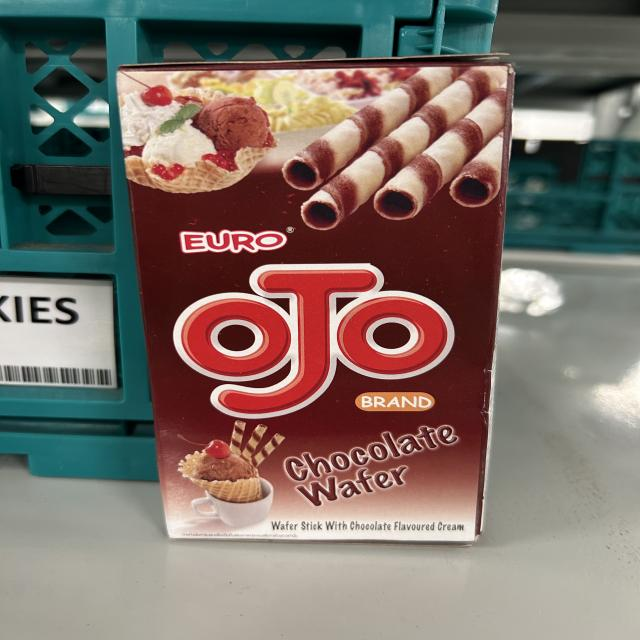object_name: (129, 70, 485, 535)
